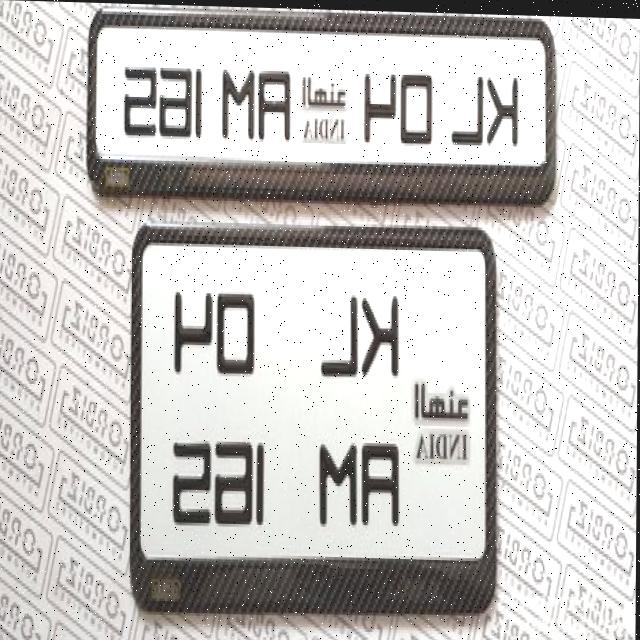plate: (128, 212, 503, 624), (85, 2, 561, 213)
